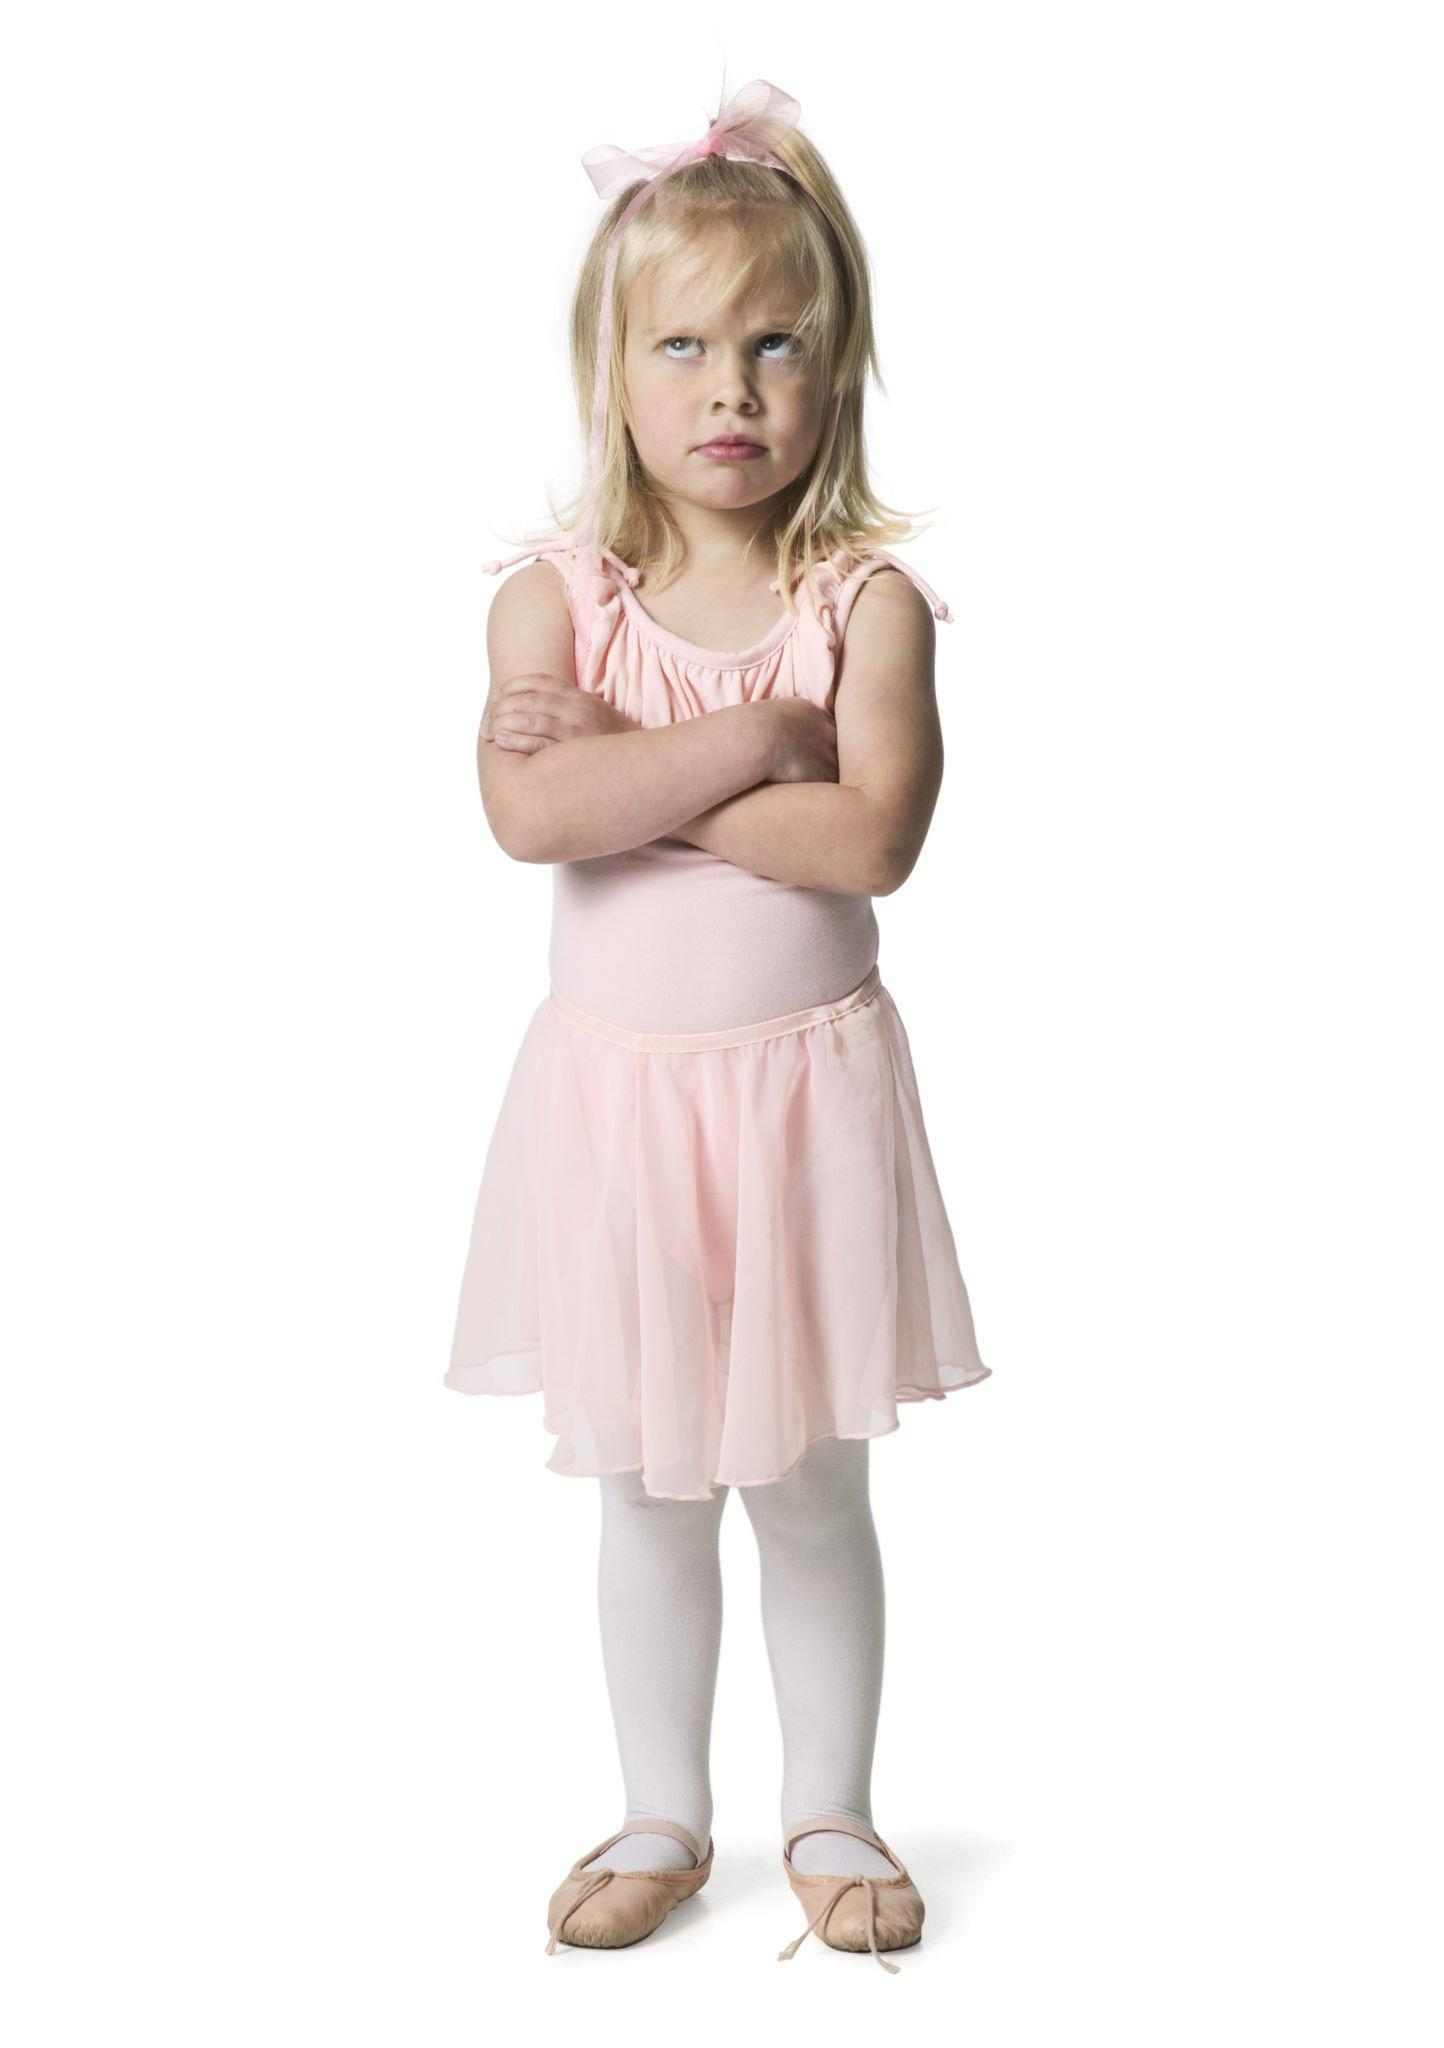Healthy: (597, 206, 845, 536)
